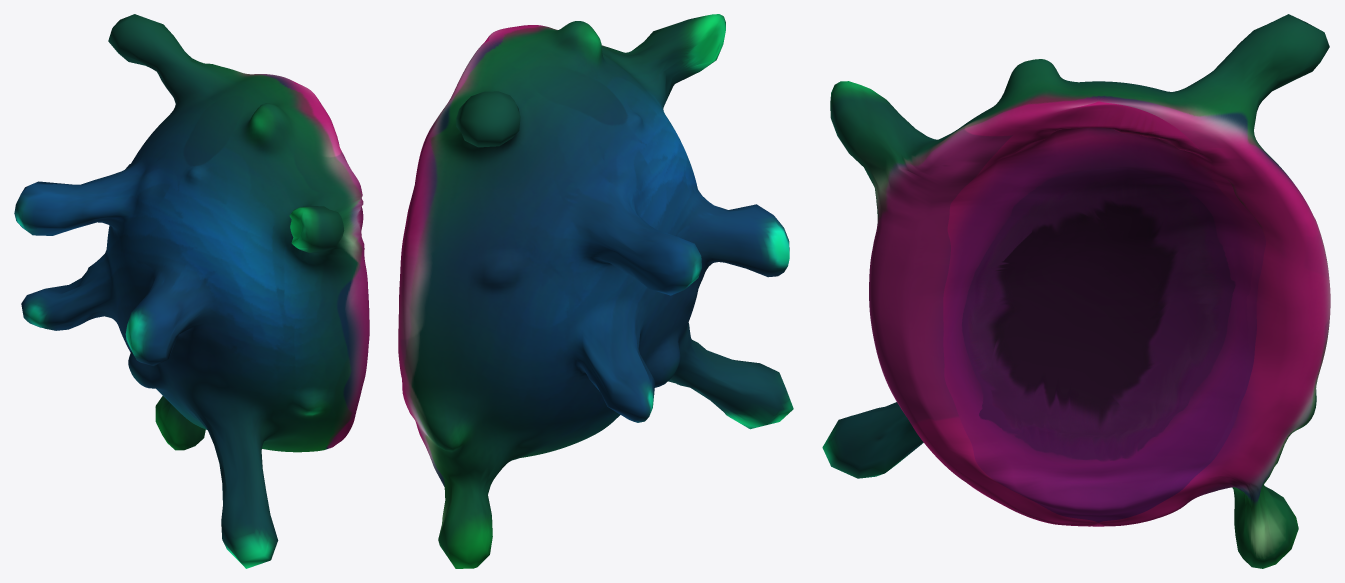
File: hole_virus_done1.fbx
3 views of the same model, side by side, from view 1: azimuth 30°, elevation 25°; view 2: azimuth 150°, elevation 25°; view 3: azimuth 270°, elevation 25° (orthographic). The views are drawn at different scales.
Visible parts, largest first — view 1: pSphere1; view 2: pSphere1; view 3: pSphere1.
Part boxes in pixels (x1,y1,x2,y2): pSphere1: (14, 14, 369, 568); pSphere1: (398, 14, 793, 568); pSphere1: (822, 14, 1330, 568).
Bounding box in the file's own units: 5.64 × 9.75 × 8.54.
